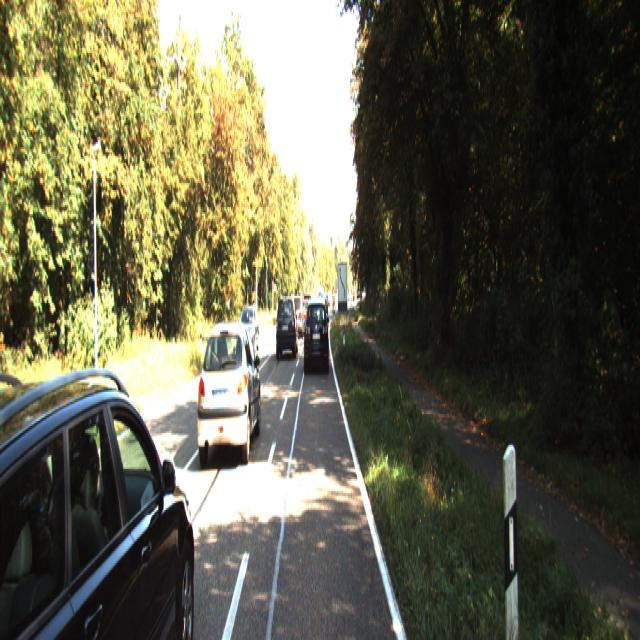Car: (0, 344, 200, 638), (197, 316, 260, 466), (304, 298, 329, 373), (276, 294, 298, 356), (236, 302, 260, 352)
